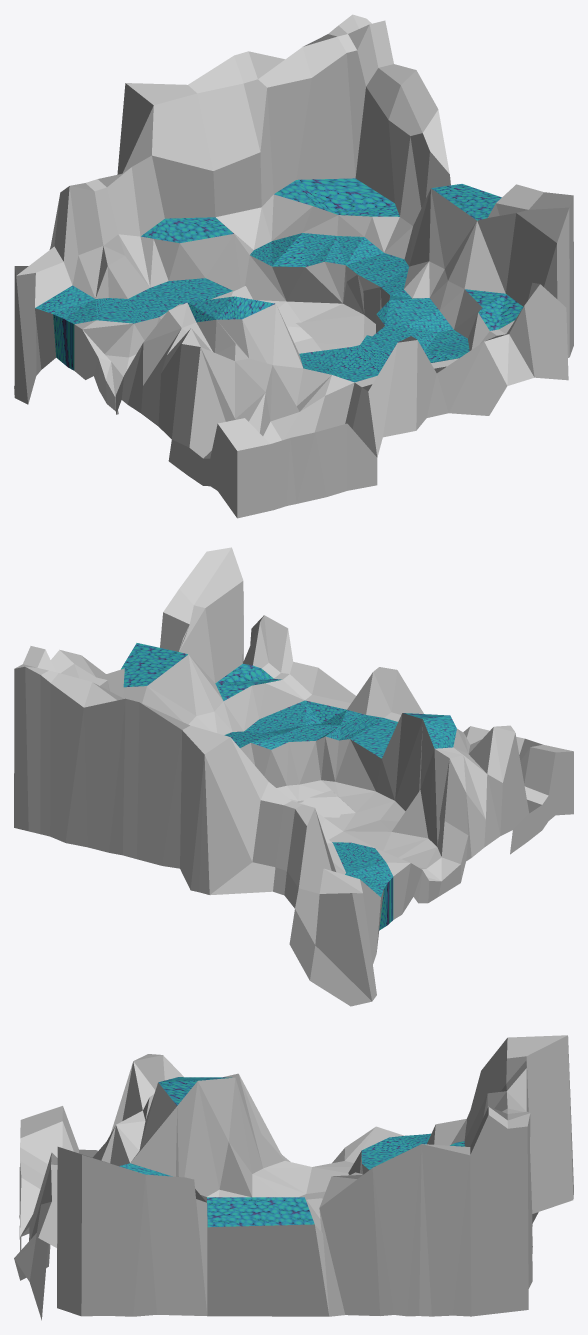
File: Town_Lake.fbx
3 views of the same model, one above another, from view 1: azimuth 30°, elevation 25°; view 2: azimuth 150°, elevation 25°; view 3: azimuth 270°, elevation 25° (orthographic). The views are drawn at different scales.
Parts seen in each view (by area): view 1: Lake Area; view 2: Lake Area; view 3: Lake Area.
Part boxes in pixels (left/top/right/bottom): Lake Area: left=14, top=14, right=573, bottom=518; Lake Area: left=14, top=547, right=573, bottom=1006; Lake Area: left=14, top=1035, right=573, bottom=1320.
Bounding box in the file's own units: 10809 × 7797 × 12629.
